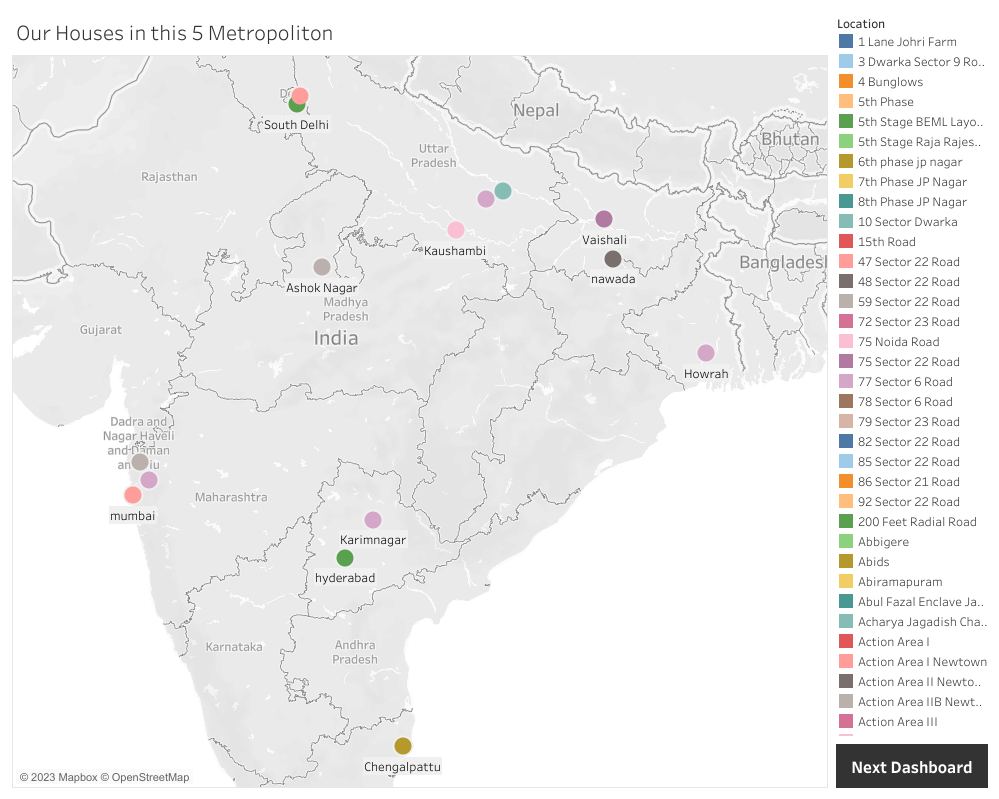

What the dashboard file says about the page in this screenshot:
{"tool":"tableau","page":{"name":"Dashboard 1","canvas":[1000,800],"ordinal":0},"visuals":[{"type":"worksheet","title":"Sheet 1","mark":"Automatic","box":[8,8,824,784]},{"type":"legend","title":"Sheet 1","param":"[federated.051ejo61k5k1d71gc72n81ba1xm3].[none:Location:nk]","box":[832,8,160,732]},{"type":"dashboard-object","box":[832,740,160,52]}]}

Visuals, with their boxes in screenshot pixels (x1, y1, x2, y2), scaled from the page's 1000x800 canvas onto the 999x799 screenshot:
"Sheet 1" worksheet: pyautogui.locateOnScreen(8, 8, 831, 791)
"Sheet 1" legend: pyautogui.locateOnScreen(831, 8, 991, 739)
dashboard-object: pyautogui.locateOnScreen(831, 739, 991, 791)
